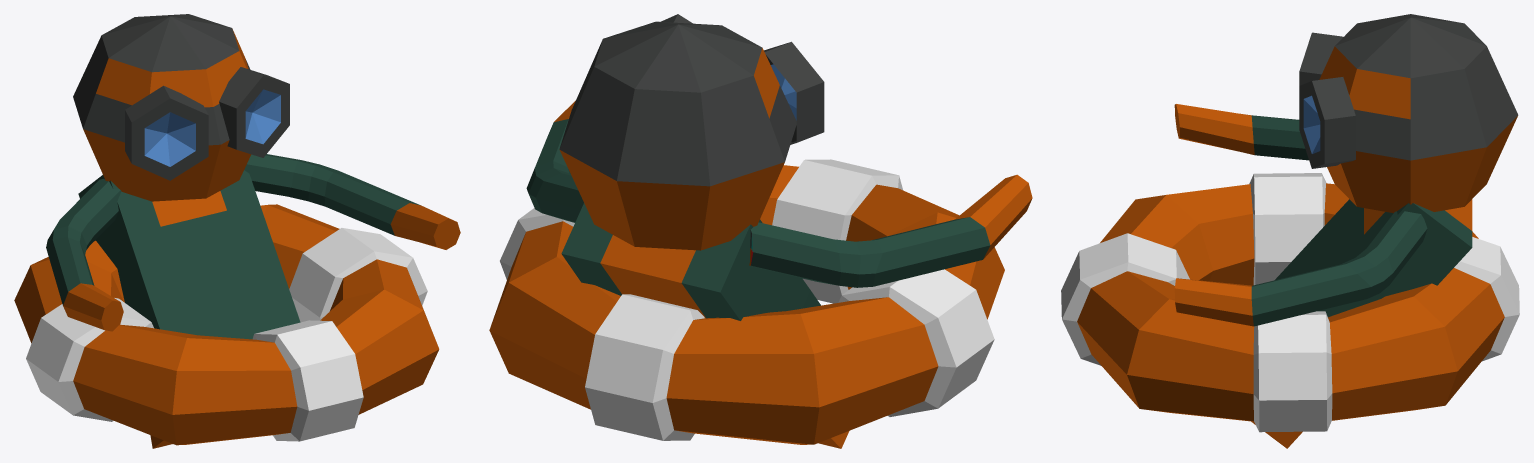
File: Person.fbx
The picture shows the model from 3 angles, left to right: view 1: azimuth 30°, elevation 25°; view 2: azimuth 150°, elevation 25°; view 3: azimuth 270°, elevation 25°; orthographic projection. The views are drawn at different scales.
Parts seen in each view (by area): view 1: Boia; view 2: Boia; view 3: Boia.
Boxes of the visible parts, x1=… form: Boia: x1=14, y1=14, x2=460, y2=448; Boia: x1=489, y1=14, x2=1032, y2=448; Boia: x1=1061, y1=14, x2=1519, y2=448.
Bounding box in the file's own units: 303 × 303 × 289.
